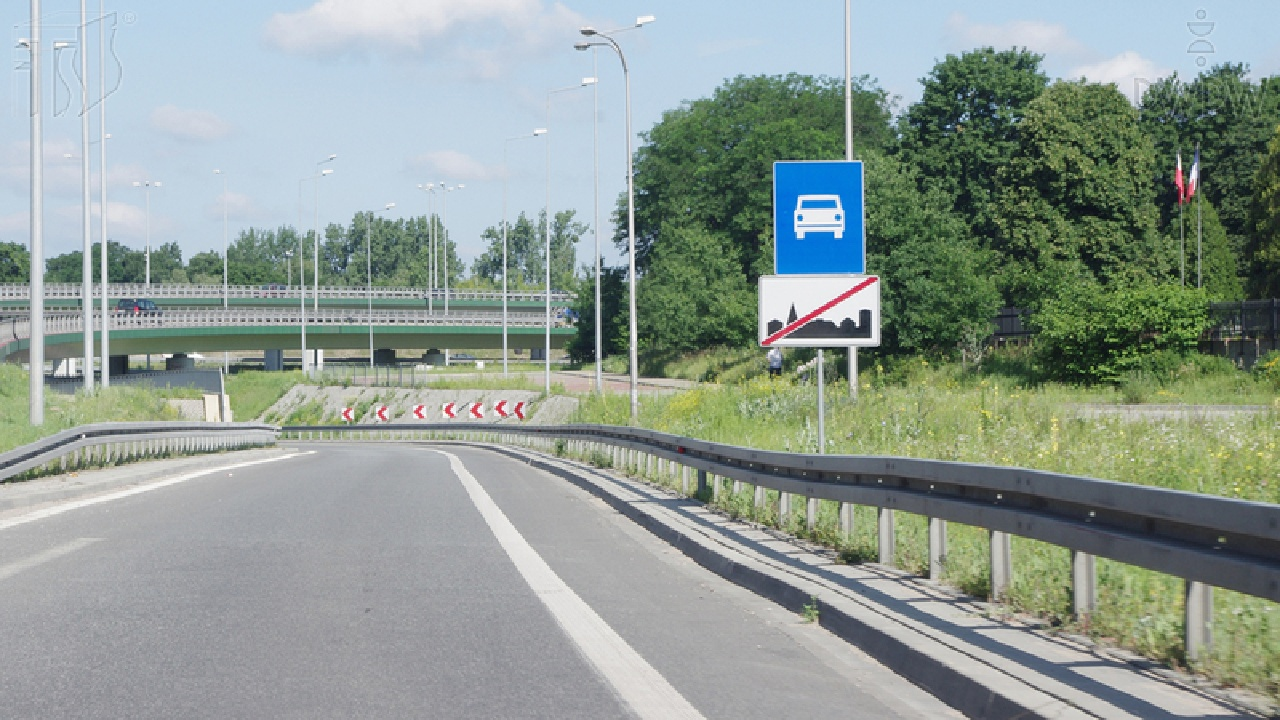D43: (758, 274, 881, 348)
D7: (773, 161, 867, 275)
